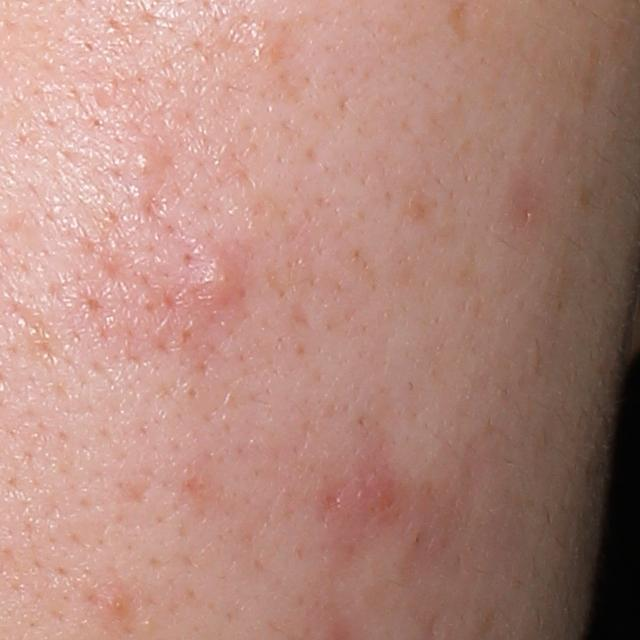comedo: (131, 147, 161, 178)
papule: (343, 460, 399, 518), (191, 252, 247, 308)
